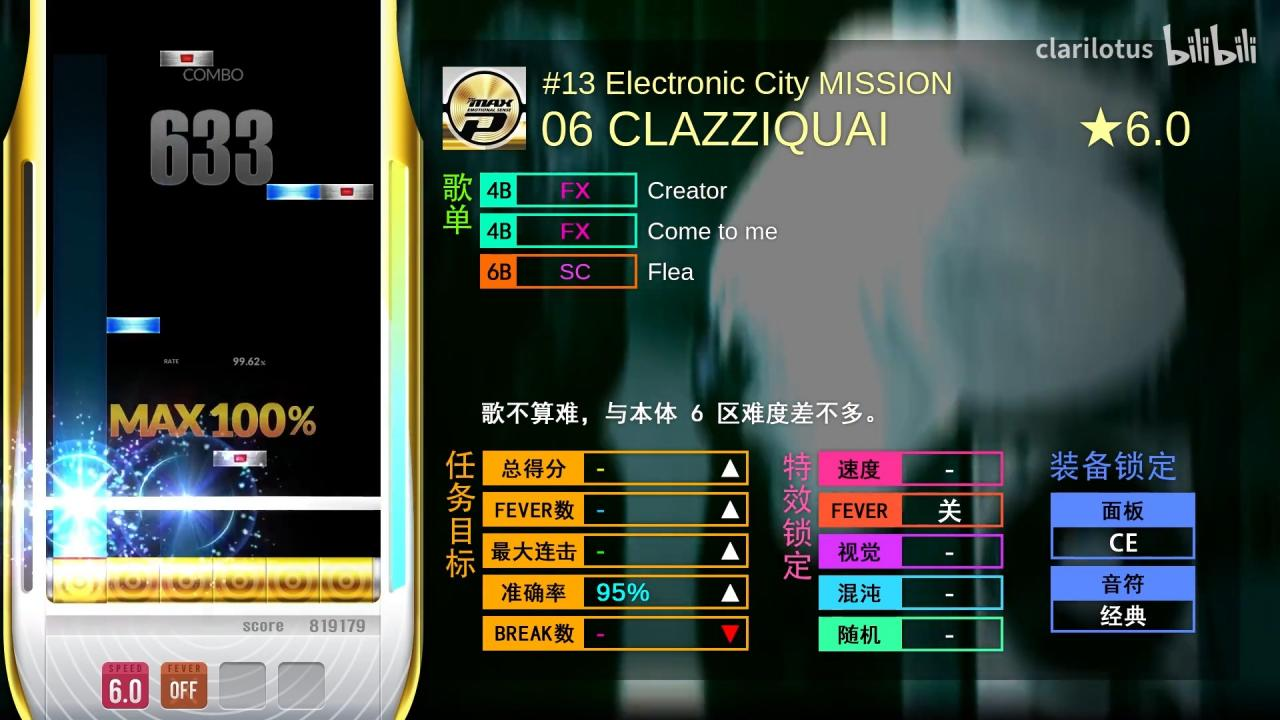note: (321, 183, 374, 200), (266, 184, 322, 200), (106, 318, 160, 334), (160, 50, 214, 66), (214, 450, 267, 466)
